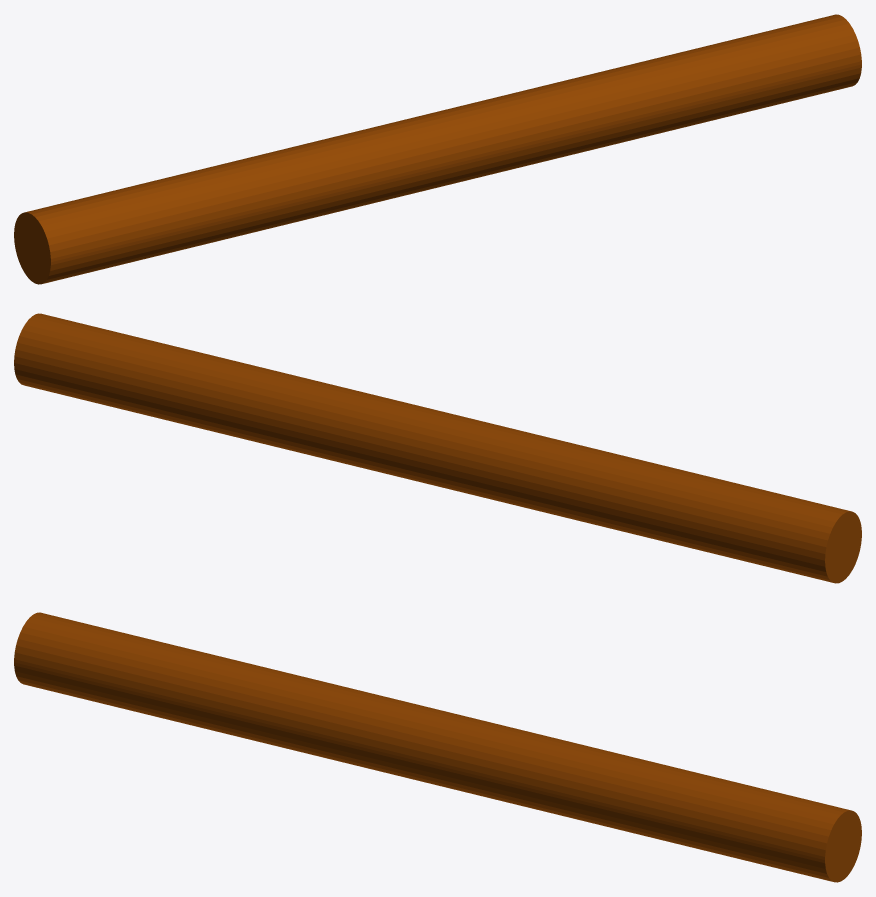
File: zatana_terra_X_parts_vis_1.dae
3 renders of one model, top to bottom at view 1: azimuth 30°, elevation 25°; view 2: azimuth 150°, elevation 25°; view 3: azimuth 330°, elevation 25°, orthographic.
Parts seen in each view (by area): view 1: Node_000002318374B5A0; view 2: Node_000002318374B5A0; view 3: Node_000002318374B5A0.
Part boxes in pixels (x1,y1,x2,y2): Node_000002318374B5A0: (14,14,861,284); Node_000002318374B5A0: (14,313,861,583); Node_000002318374B5A0: (14,612,861,882).
Bounding box in the file's own units: 0.19 × 0.015 × 0.015.
